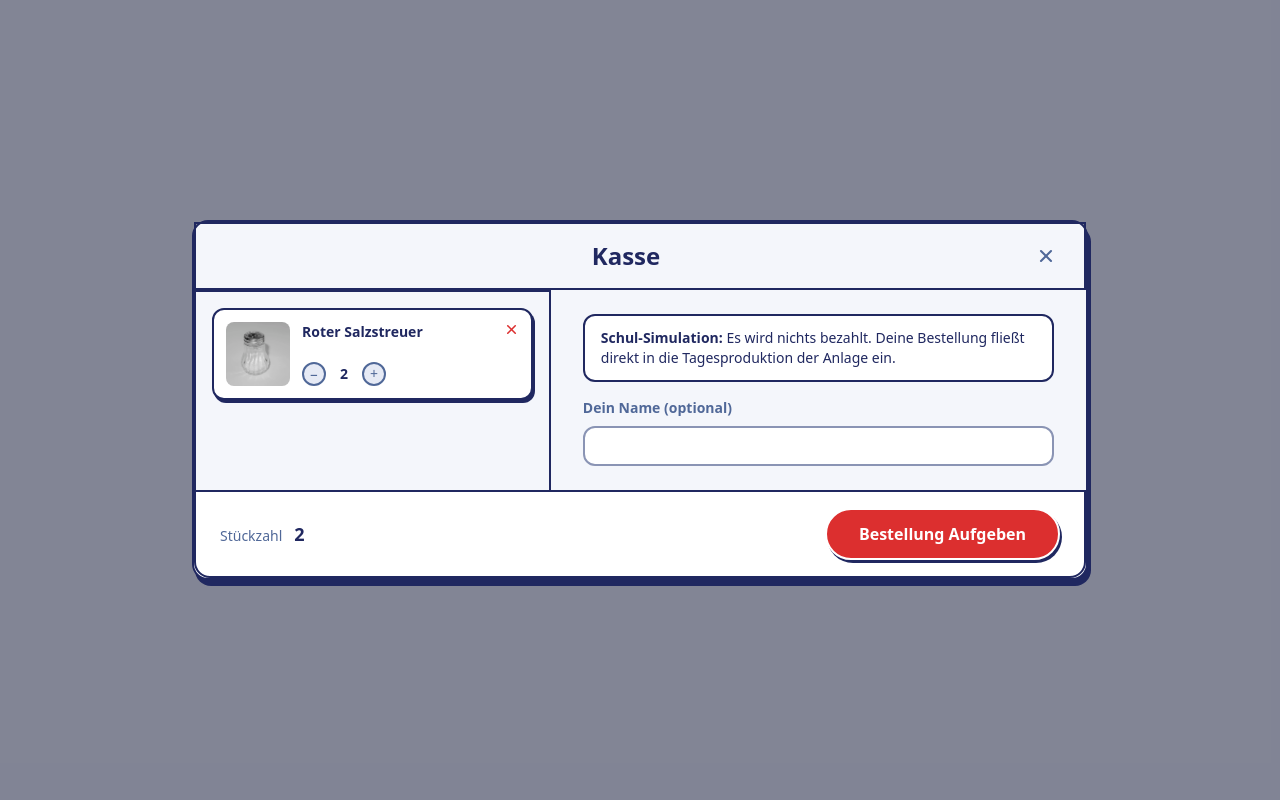
Test: CheckoutDialog in simulation mode › shows the closed-order message when the simulation already runs
Click the button "Bestellung Aufgeben": (942, 534) left=825, top=508, right=1060, bottom=560
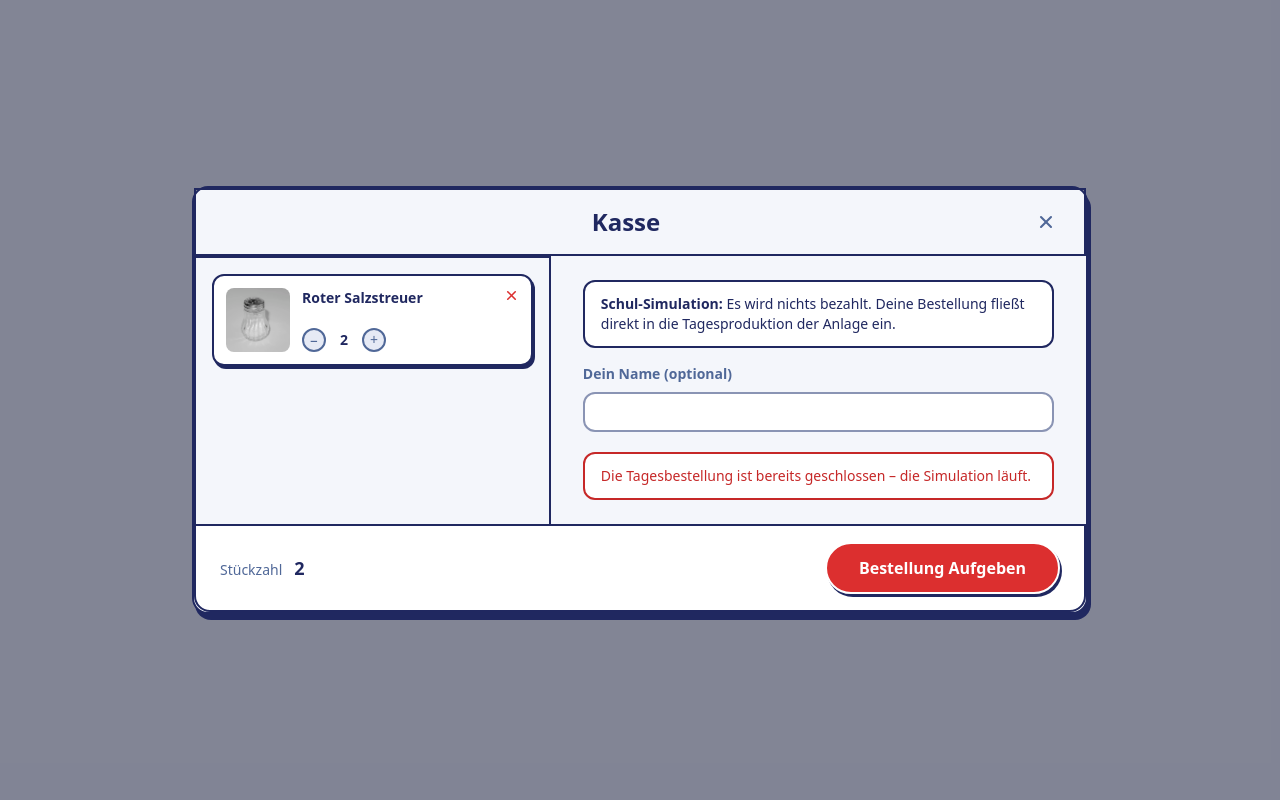
Now the message reads "Die Tagesbestellung ist bereits geschlossen – die Simulation läuft.", box left=601, top=466, right=1031, bottom=485
